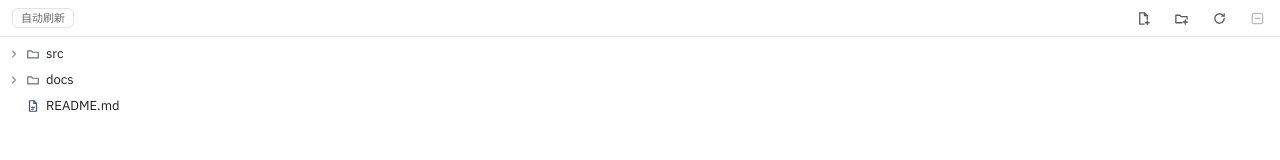
opening and the tree › explains an unreadable directory (missing)
This screenshot has width=1280, height=160.
Click the list item "docs" at (41, 80), box left=8, top=71, right=74, bottom=88
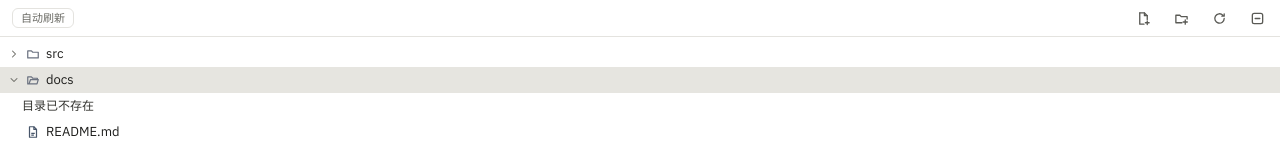
Check: the text "目录已不存在" is shown, box left=22, top=97, right=94, bottom=115
